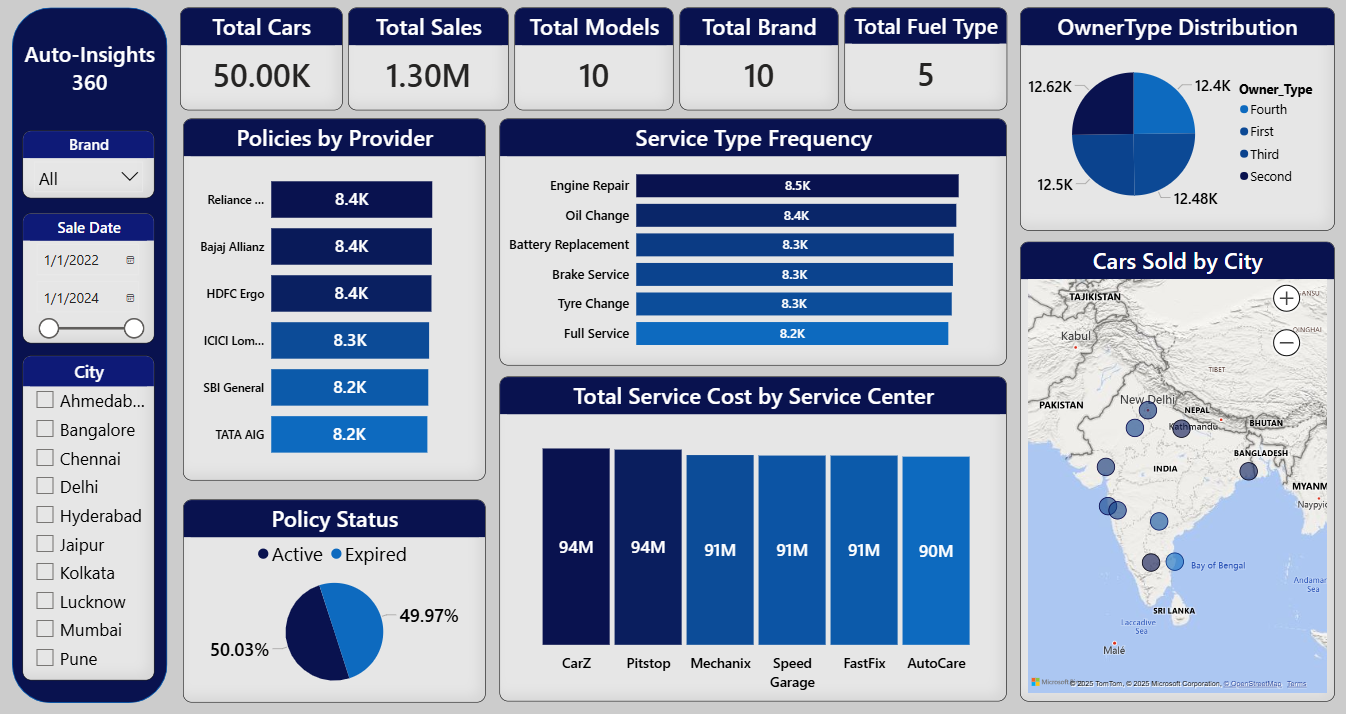

The dashboard page shown, as its layout file describes it:
{"tool":"powerbi","page":{"name":"Page 2","canvas":[1700,900],"ordinal":1},"visuals":[{"type":"pieChart","title":"OwnerType Distribution","fields":{"Category":["Car_Data.Owner_Type"],"Y":["CountNonNull(Car_Data.Car_ID)"]},"box":[1287.2,8.5,395.7,280.9],"z":0},{"type":"barChart","title":"Service Type Frequency","fields":{"Category":["Car_Data.Service_Type"],"Y":["CountNonNull(Car_Data.Service_Type)"]},"box":[631.9,148.9,638.3,310.6],"z":1000},{"type":"clusteredColumnChart","title":"Total Service Cost by Service Center","fields":{"Category":["Car_Data.Service_Center"],"Y":["Sum(Car_Data.Service_Cost)"]},"box":[631.9,474.5,638.3,408.5],"z":2000},{"type":"pieChart","title":"Policy Status ","fields":{"Category":["Car_Data.Status"],"Y":["CountNonNull(Car_Data.Policy_Number)"]},"box":[234,627.7,380.9,255.3],"z":3000},{"type":"barChart","title":"Policies by Provider","fields":{"Y":["CountNonNull(Car_Data.Policy_Number)"],"Category":["Car_Data.Provider"]},"box":[234,148.9,380.9,455.3],"z":4000},{"type":"card","title":"Total Cars","fields":{"Values":["Count(Car_Data.Car_ID)"]},"box":[229.5,9.1,204.5,129.5],"z":5000},{"type":"card","title":"Total Sales","fields":{"Values":["Sum(Car_Data.Sale_Price_Lakh)"]},"box":[440.9,9.1,202.3,129.5],"z":6000},{"type":"card","title":"Total Brand","fields":{"Values":["Count(Car_Data.Brand)"]},"box":[859.1,9.1,200,129.5],"z":7000},{"type":"card","title":"Total Fuel Type","fields":{"Values":["Count(Car_Data.Fuel_Type)"]},"box":[1065.9,9.1,204.5,129.5],"z":8000},{"type":"card","title":"Total Models","fields":{"Values":["Count(Car_Data.Model)"]},"box":[650,9.1,200,129.5],"z":9000},{"type":"shape","box":[18.2,9.1,195.5,875],"z":10000},{"type":"map","title":"Cars Sold by City","fields":{"Category":["Car_Data.City"]},"box":[1287.2,304.3,395.7,578.7],"z":11000},{"type":"slicer","title":"Brand","fields":{"Values":["Car_Data.Brand"]},"box":[31.9,163.8,166,85.1],"z":12000},{"type":"slicer","title":"Sale Date","fields":{"Values":["Car_Data.Sale_Date"]},"box":[31.9,268.1,166,163.8],"z":13000},{"type":"slicer","title":"City","fields":{"Values":["Car_Data.City"]},"box":[31.9,446.8,166,408.5],"z":14000},{"type":"textbox","box":[19.1,42.6,195.7,95.7],"z":15000}]}

Visuals, with their boxes in screenshot pixels (x1, y1, x2, y2), scaled from the page's 1700x900 canvas onto the 1346x714 screenshot:
"OwnerType Distribution" pieChart: locate(1019, 7, 1332, 230)
"Service Type Frequency" barChart: locate(500, 118, 1006, 365)
"Total Service Cost by Service Center" clusteredColumnChart: locate(500, 376, 1006, 701)
"Policy Status " pieChart: locate(185, 498, 487, 701)
"Policies by Provider" barChart: locate(185, 118, 487, 479)
"Total Cars" card: locate(182, 7, 344, 110)
"Total Sales" card: locate(349, 7, 509, 110)
"Total Brand" card: locate(680, 7, 839, 110)
"Total Fuel Type" card: locate(844, 7, 1006, 110)
"Total Models" card: locate(515, 7, 673, 110)
shape: locate(14, 7, 169, 701)
"Cars Sold by City" map: locate(1019, 241, 1332, 701)
"Brand" slicer: locate(25, 130, 157, 197)
"Sale Date" slicer: locate(25, 213, 157, 343)
"City" slicer: locate(25, 354, 157, 679)
textbox: locate(15, 34, 170, 110)
